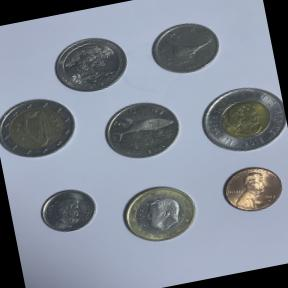coin: (190, 71, 288, 164), (94, 89, 193, 173), (113, 173, 208, 251), (0, 89, 84, 170), (47, 30, 135, 100), (212, 155, 288, 219), (32, 183, 102, 243)
